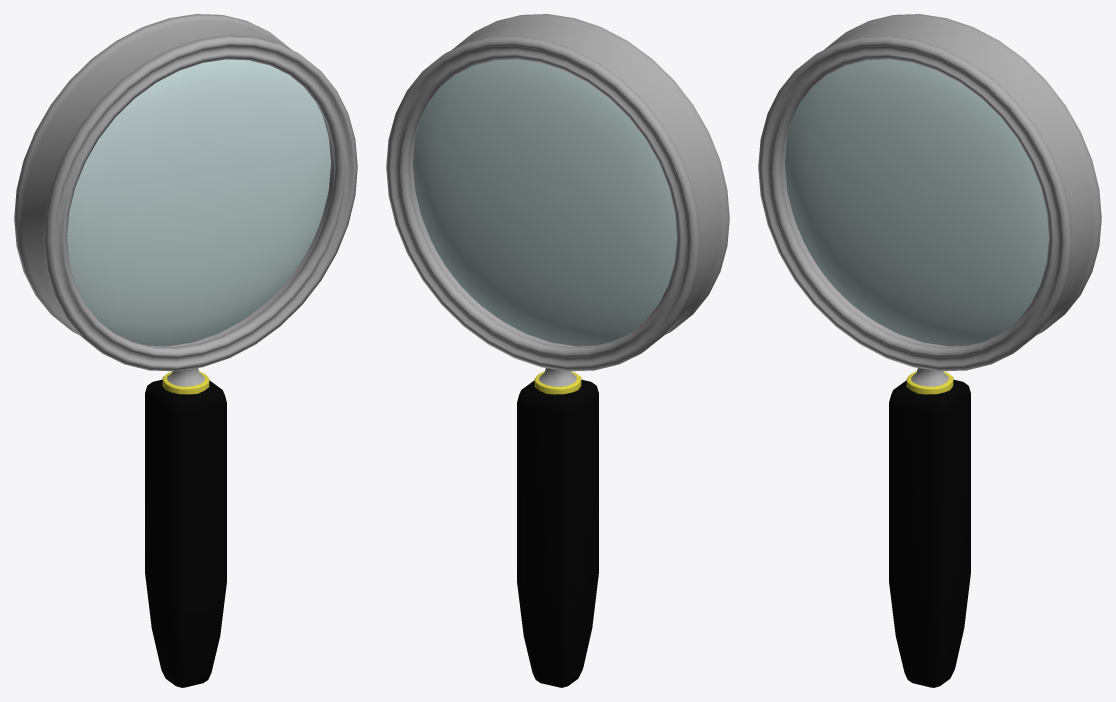
Rendered from Loupe.fbx.
The picture shows the model from 3 angles, left to right: view 1: azimuth 30°, elevation 25°; view 2: azimuth 150°, elevation 25°; view 3: azimuth 330°, elevation 25°; orthographic projection.
Visible parts, largest first — view 1: Loupe_geo; view 2: Loupe_geo; view 3: Loupe_geo.
Part boxes in pixels (bbox=[...]): Loupe_geo: bbox=[14, 14, 357, 687]; Loupe_geo: bbox=[386, 14, 729, 687]; Loupe_geo: bbox=[758, 14, 1101, 687].
Size of the model in its own units: 89.44 by 179 by 17.75.
